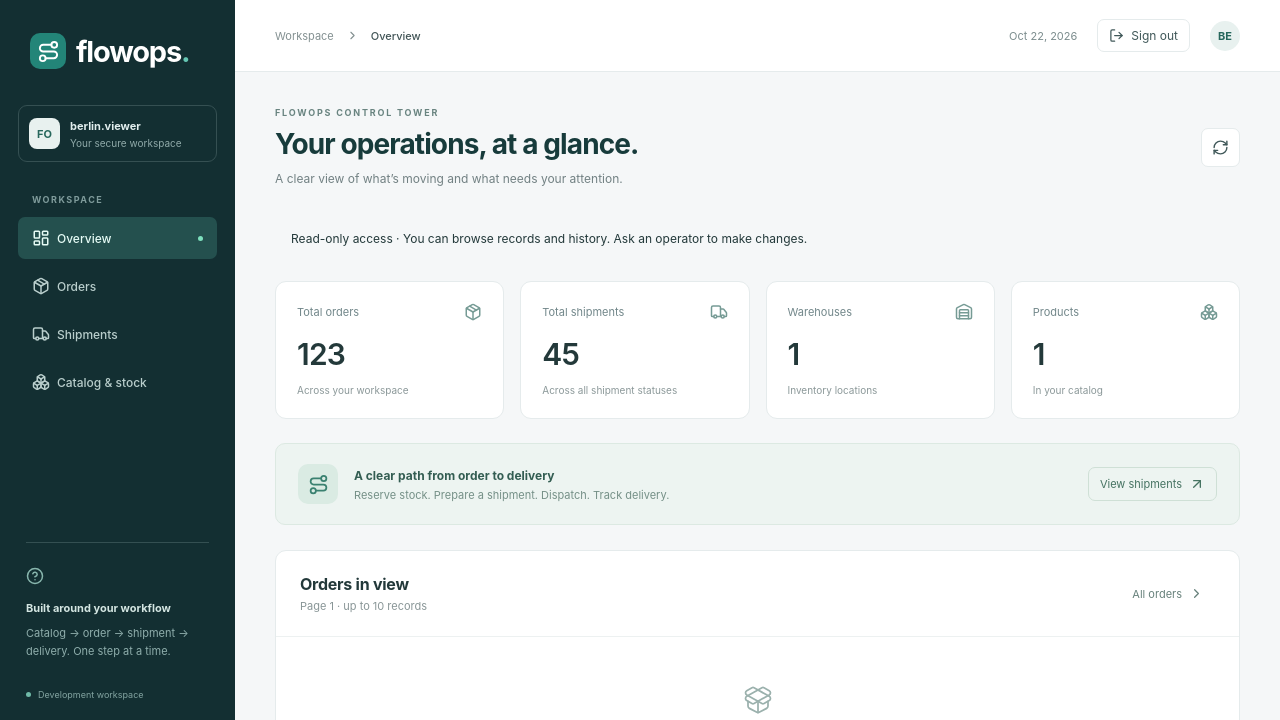
it: Viewer permissions › allows stock and ledger browsing without catalog or balance forms
This screenshot has width=1280, height=720.
Expected: the text "123" is shown, top-left (297, 336), bottom-right (345, 372)
Step 1. Click the button "Catalog & stock" → (118, 382), box top-left (18, 361), bottom-right (217, 403)
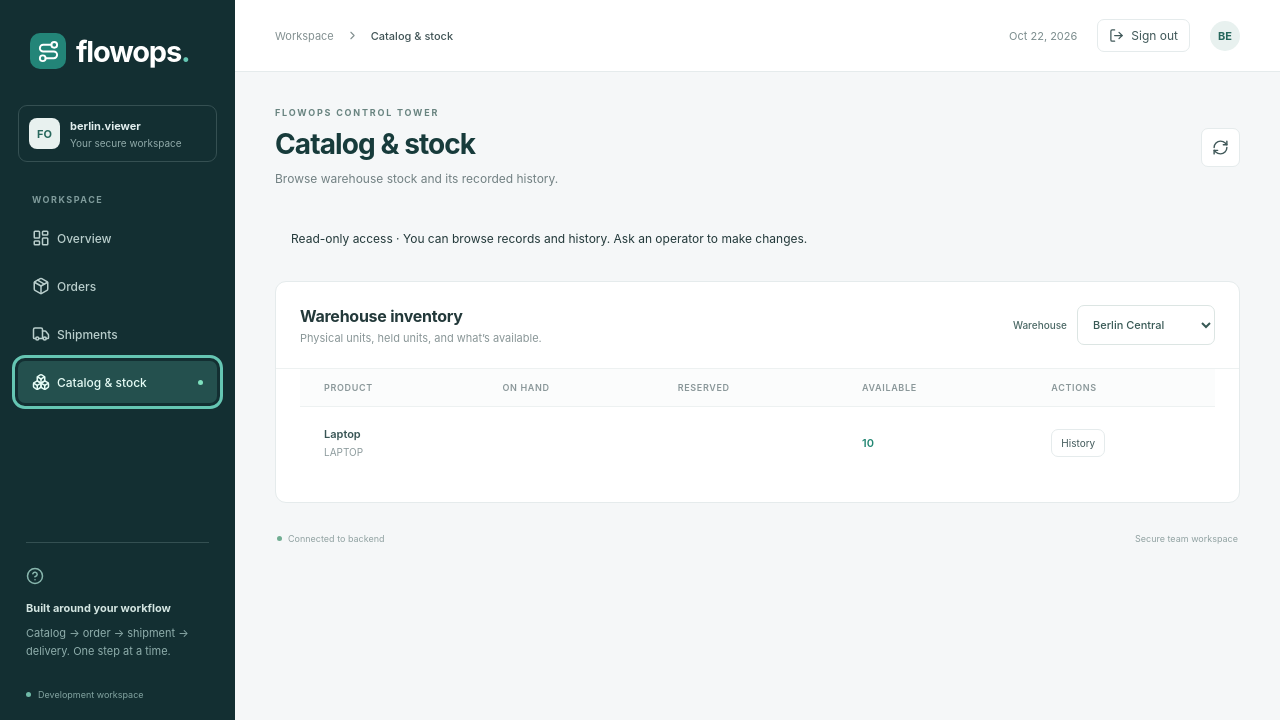
Now the button "History" is shown, box top-left (1051, 429), bottom-right (1105, 457)
